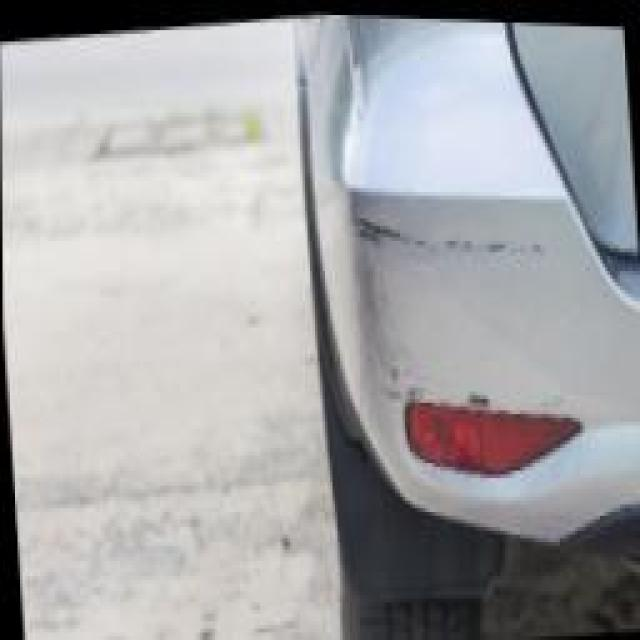Bumper: (325, 158, 582, 476)
